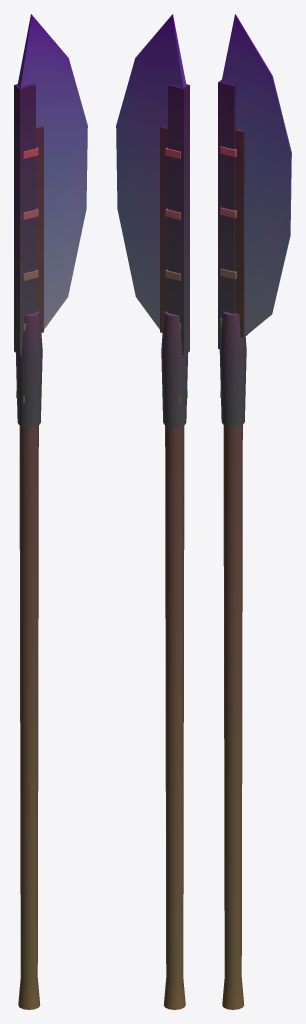
The model's file is oar_glaive.glb.
The picture shows the model from 3 angles, left to right: view 1: azimuth 30°, elevation 25°; view 2: azimuth 150°, elevation 25°; view 3: azimuth 330°, elevation 25°; orthographic projection.
Parts seen in each view (by area): view 1: oar_blade, oar_haft, oar_spine, oar_socket, oar_paddle_core, oar_rivets; view 2: oar_blade, oar_haft, oar_spine, oar_socket, oar_paddle_core, oar_rivets; view 3: oar_blade, oar_haft, oar_spine, oar_socket, oar_paddle_core, oar_rivets.
Part boxes in pixels (x1=…): oar_blade: x1=17, y1=14, x2=87, y2=329; oar_haft: x1=18, y1=425, x2=40, y2=1009; oar_spine: x1=14, y1=83, x2=35, y2=355; oar_socket: x1=16, y1=311, x2=42, y2=427; oar_paddle_core: x1=36, y1=126, x2=43, y2=332; oar_rivets: x1=16, y1=147, x2=38, y2=402; oar_blade: x1=116, y1=14, x2=186, y2=329; oar_haft: x1=163, y1=425, x2=185, y2=1009; oar_spine: x1=168, y1=84, x2=189, y2=355; oar_socket: x1=161, y1=311, x2=187, y2=427; oar_paddle_core: x1=160, y1=126, x2=167, y2=332; oar_rivets: x1=165, y1=147, x2=187, y2=402; oar_blade: x1=221, y1=14, x2=291, y2=338; oar_haft: x1=222, y1=424, x2=244, y2=1009; oar_spine: x1=218, y1=79, x2=236, y2=349; oar_socket: x1=219, y1=311, x2=246, y2=426; oar_paddle_core: x1=234, y1=129, x2=247, y2=337; oar_rivets: x1=220, y1=146, x2=236, y2=397.
Size of the model in its own units: 0.266 by 3.57 by 0.088.
